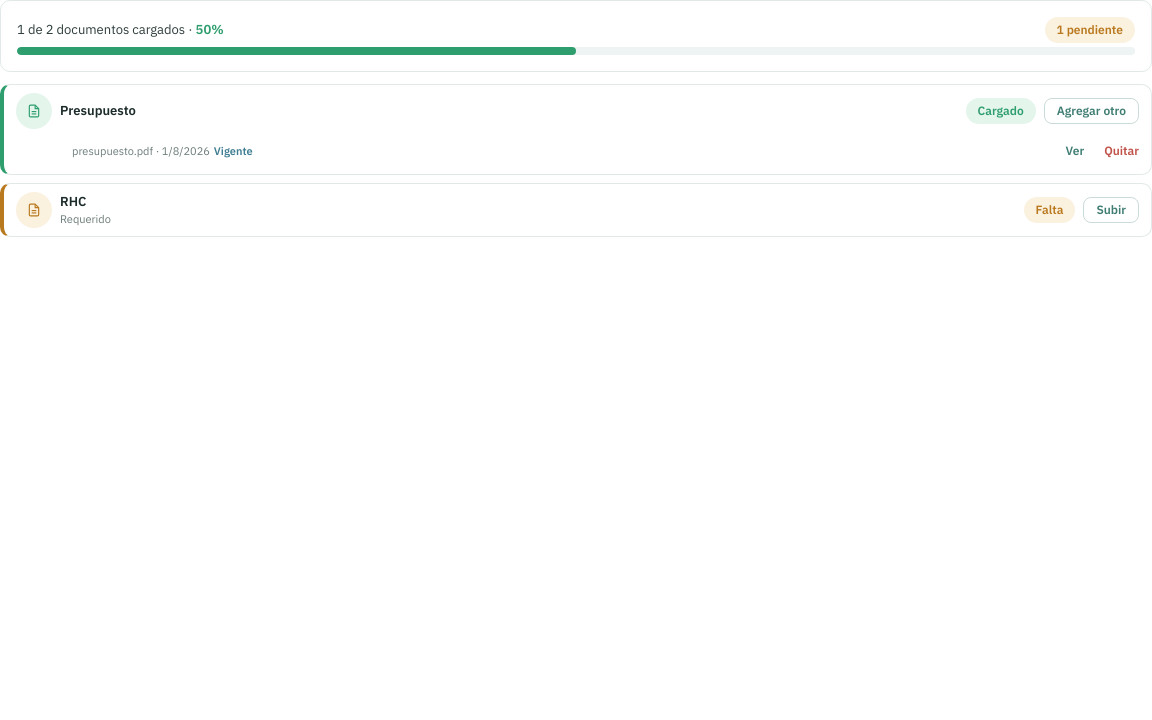
it: DocumentChecklist — estados de carga/error/no-previsualizable (tasks.md 5.5, design.md D5) › si resolverPrevisualizacion rechaza, muestra un mensaje de error genérico, nunca el mensaje crudo del error
This screenshot has width=1152, height=720.
Step 1. Click the button with aria-label "ver presupuesto - presupuesto.pdf" → (1075,151), box [1066,143,1084,159]
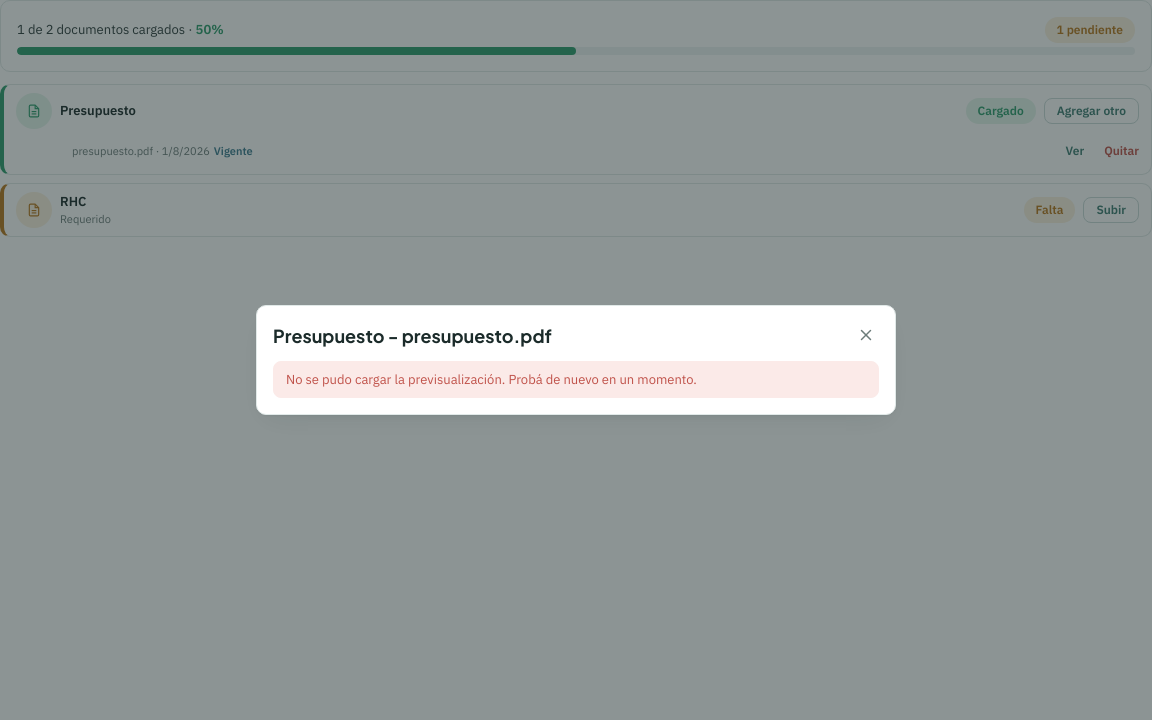
Now the message "No se pudo cargar la previsualización. Probá de nuevo en un momento." is shown, box [273,361,879,398]
